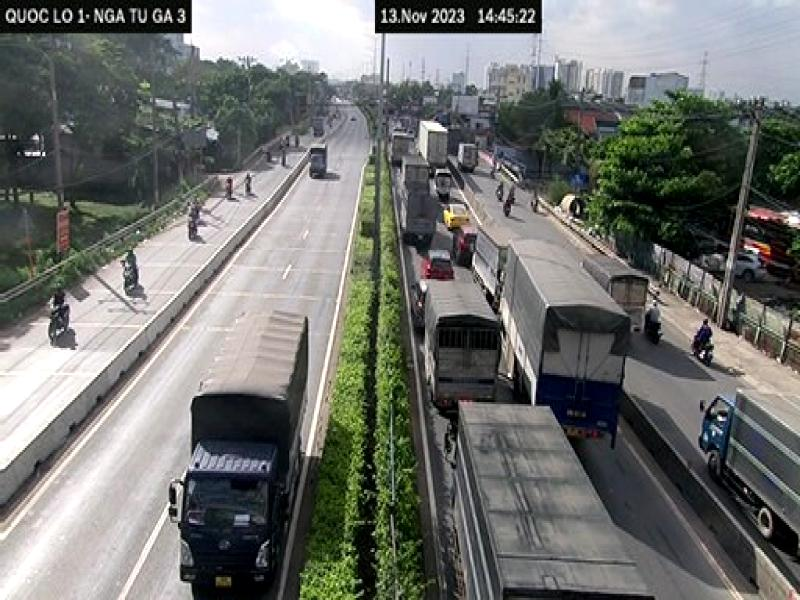truck: (166, 299, 312, 600), (699, 384, 800, 566)
